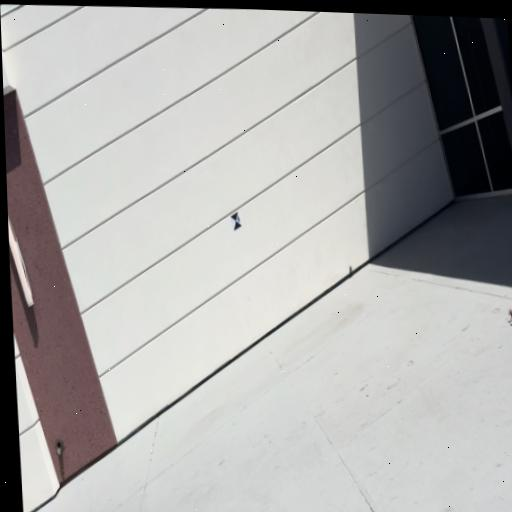target4: (230, 212, 242, 231)
